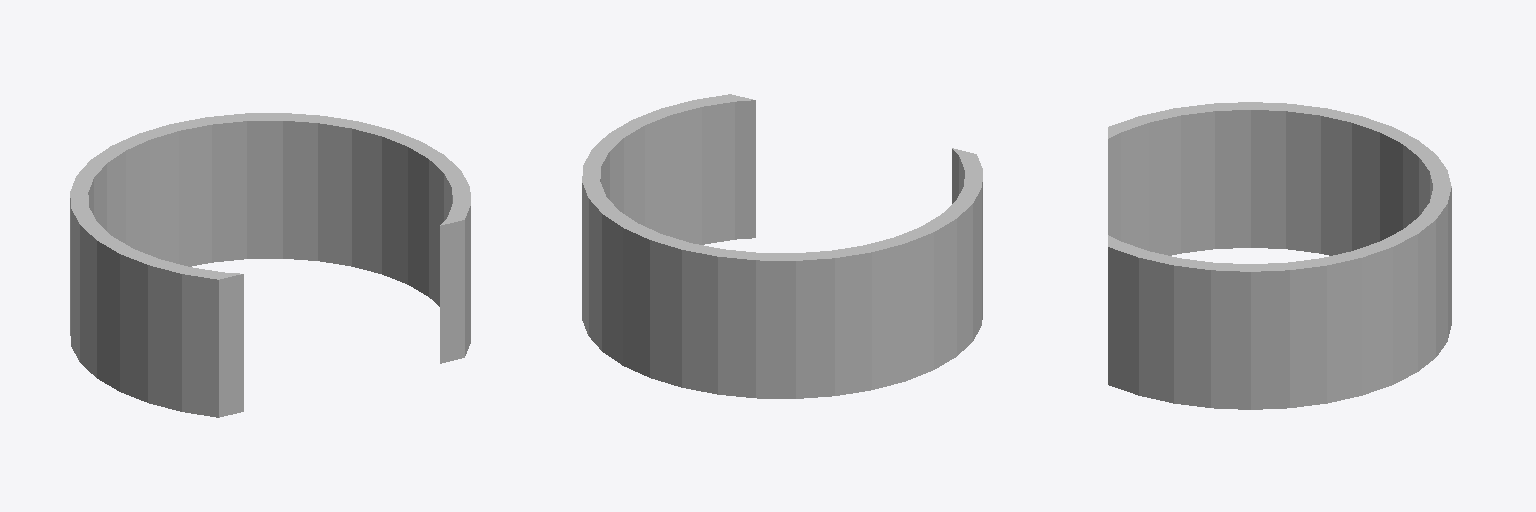
Rendered from elev_room.obj.
3 renders of one model, left to right at view 1: azimuth 30°, elevation 25°; view 2: azimuth 150°, elevation 25°; view 3: azimuth 270°, elevation 25°, orthographic.
Visible parts, largest first — view 1: Cylinder.001_Cylinder.006; view 2: Cylinder.001_Cylinder.006; view 3: Cylinder.001_Cylinder.006.
Boxes of the visible parts, box(x1,y1,x2,y2) form: Cylinder.001_Cylinder.006: box(70, 113, 470, 417); Cylinder.001_Cylinder.006: box(582, 94, 982, 398); Cylinder.001_Cylinder.006: box(1108, 102, 1451, 409).
Bounding box in the file's own units: 13.2 × 5 × 11.27.